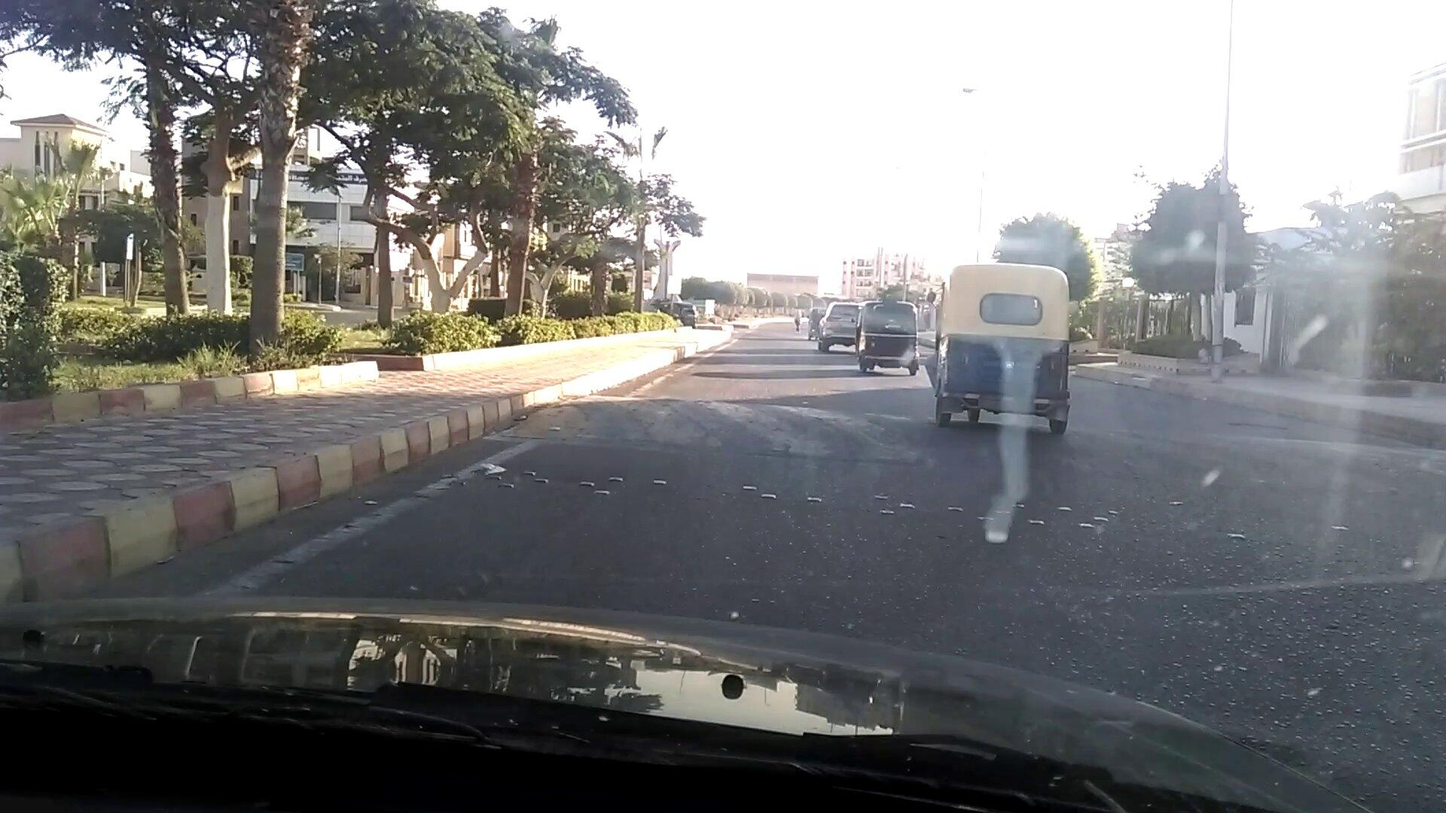Bump: (493, 386, 1437, 486)
